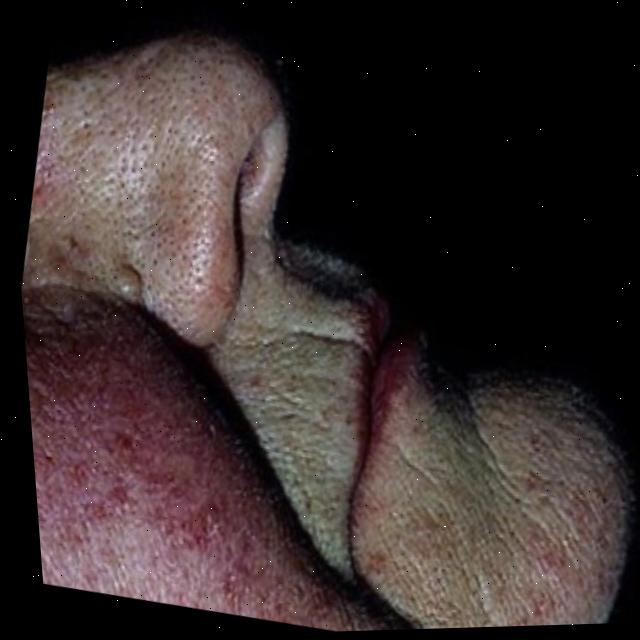Rosacea: (21, 279, 357, 633)
